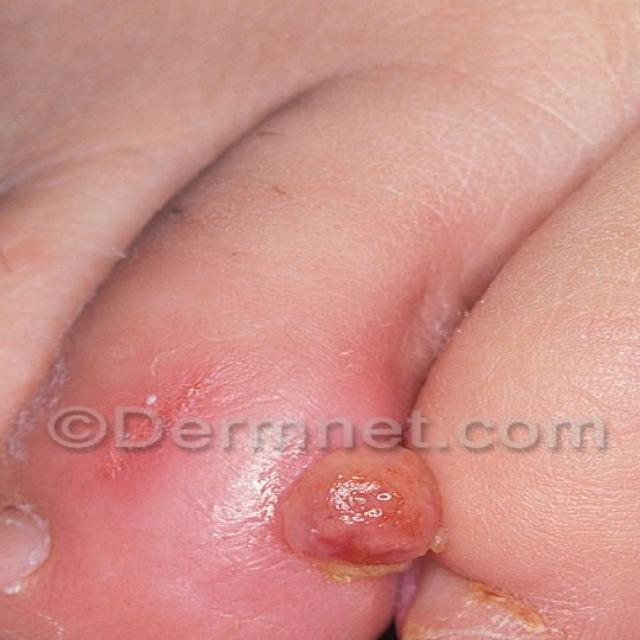Vascular Tumors: (273, 427, 485, 614)
